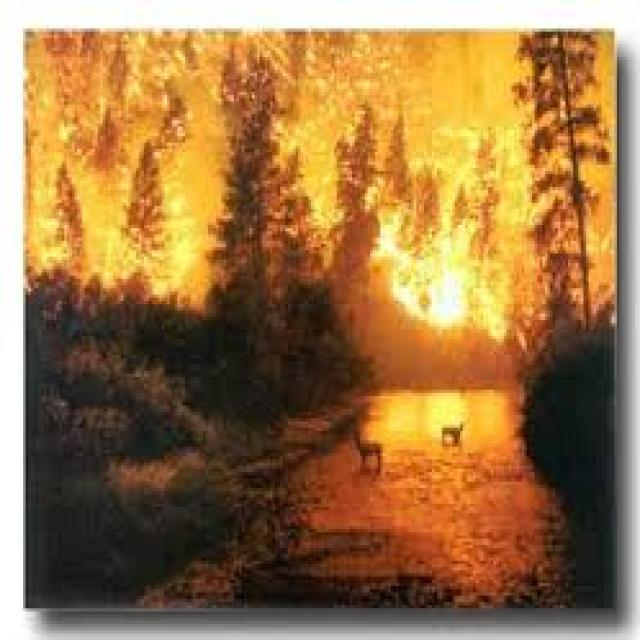Fire: (426, 270, 468, 337)
